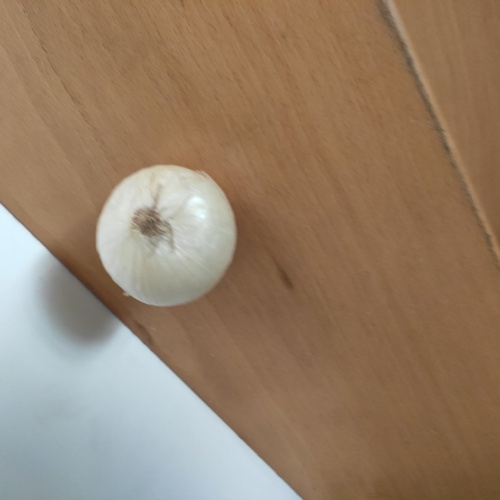cipolla: (84, 159, 250, 311)
